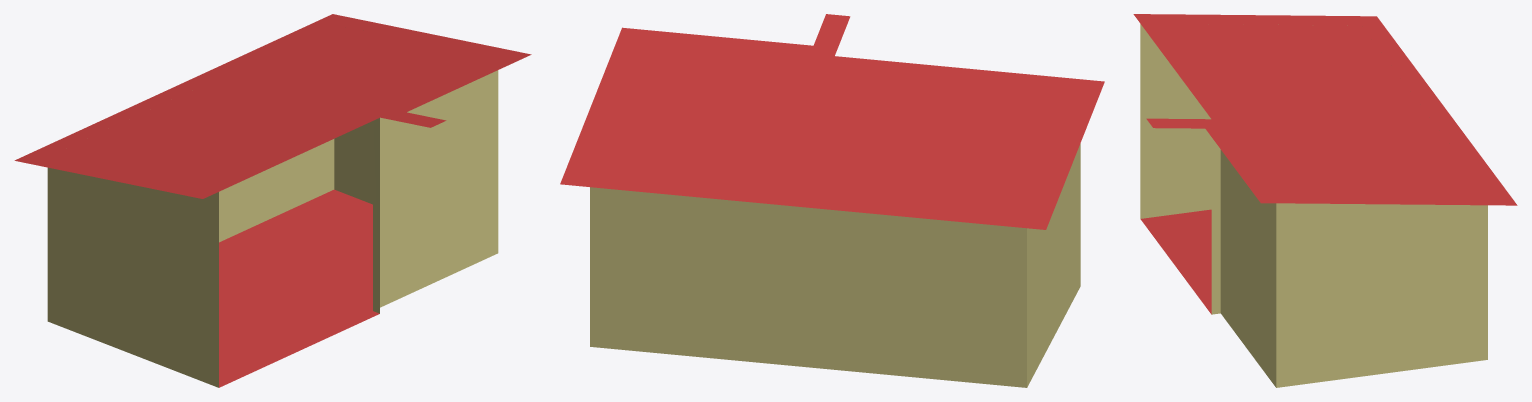
3 renders of one model, left to right at view 1: azimuth 30°, elevation 25°; view 2: azimuth 150°, elevation 25°; view 3: azimuth 270°, elevation 25°, orthographic. The views are drawn at different scales.
Size of the model in its own units: 22.39 by 16.28 by 9.57.
